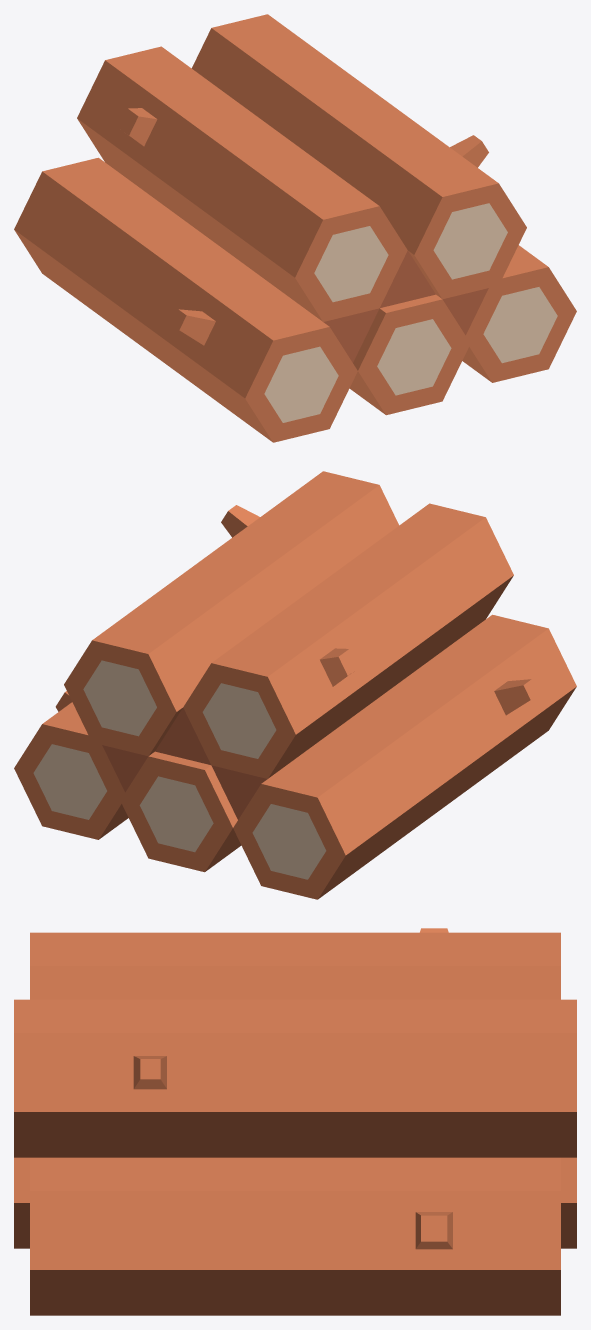
The picture shows the model from 3 angles, top to bottom: view 1: azimuth 30°, elevation 25°; view 2: azimuth 150°, elevation 25°; view 3: azimuth 270°, elevation 25°; orthographic projection. The views are drawn at different scales.
Parts seen in each view (by area): view 1: log_stackLarge; view 2: log_stackLarge; view 3: log_stackLarge.
Boxes of the visible parts, bbox=[...] form: log_stackLarge: bbox=[14, 14, 576, 442]; log_stackLarge: bbox=[14, 471, 576, 899]; log_stackLarge: bbox=[14, 928, 576, 1315].
Size of the model in its own units: 0.634 by 0.3464 by 0.71.
